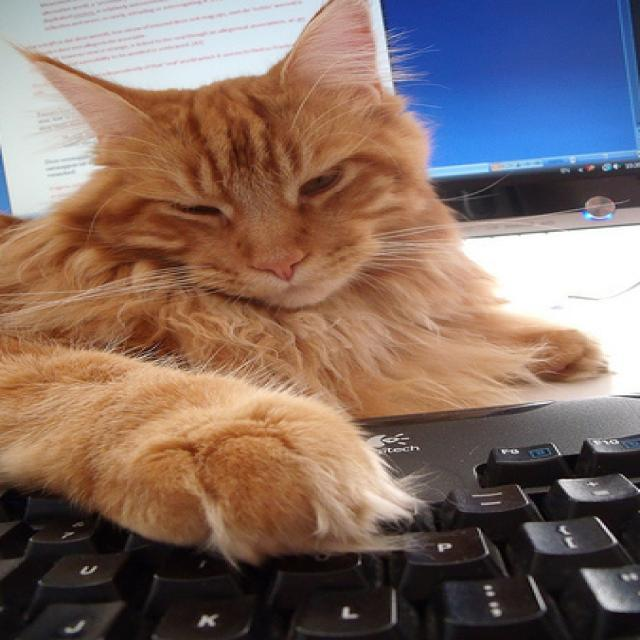Maine Coon: (0, 0, 612, 563)
